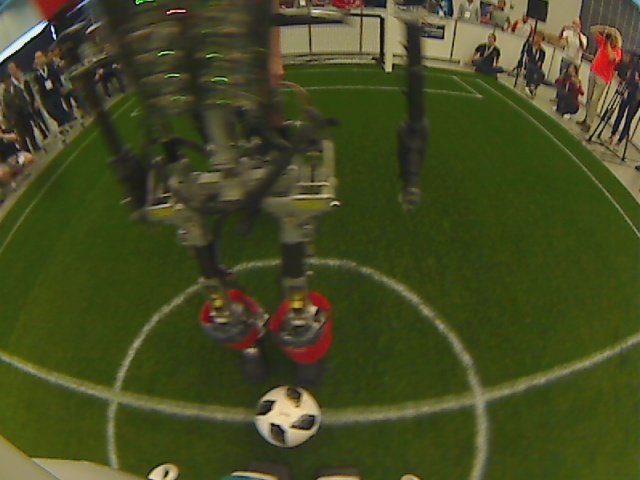ball: (251, 381, 325, 450)
